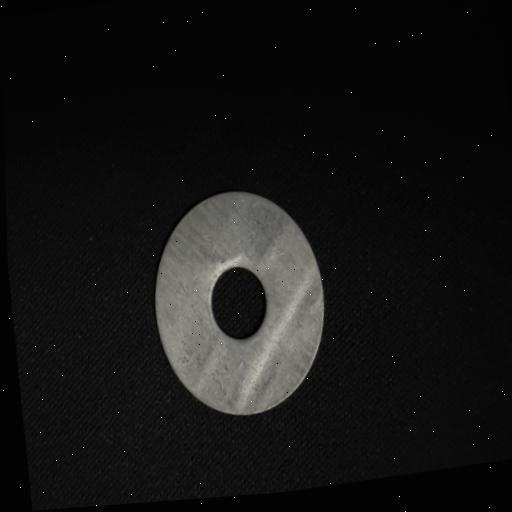Dent: (231, 293, 320, 372), (189, 239, 250, 305)
Product: (155, 191, 324, 414)
